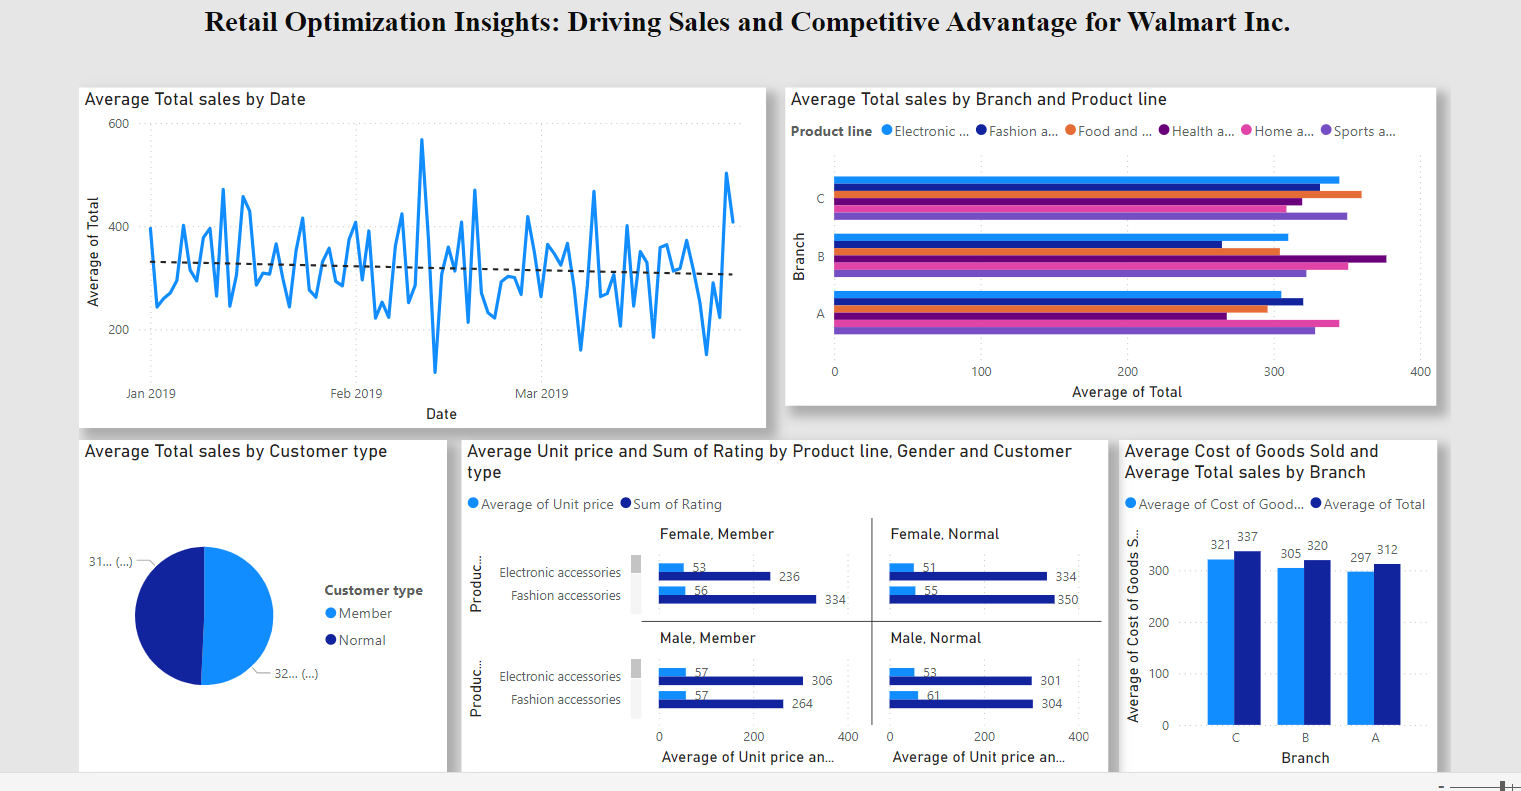

The page's visual inventory and layout, read from the dashboard file:
{"tool":"powerbi","page":{"name":"Page 1","canvas":[1280,720],"ordinal":0},"visuals":[{"type":"lineChart","title":"Average Total sales by Date","fields":{"Y":["Avg(Table.Total)"],"Category":["Table.Date"]},"box":[0,81.8,641.1,317.7],"z":0},{"type":"clusteredColumnChart","title":"Average Cost of Goods Sold and Average Total sales by Branch","fields":{"Y":["Avg(Table.Cost of Goods Sold)","Avg(Table.Total)"],"Category":["Table.Branch"]},"box":[969.5,410,296.5,309.4],"z":1000},{"type":"clusteredBarChart","title":"Average Total sales by Branch and Product line","fields":{"Category":["Table.Branch"],"Series":["Table.Product line"],"Y":["Avg(Table.Total)"]},"box":[658.8,81.2,607.3,296.5],"z":2000},{"type":"pieChart","title":"Average Total sales by Customer type","fields":{"Category":["Table.Customer type"],"Y":["Avg(Table.Total)"]},"box":[0,410,343,309.4],"z":3000},{"type":"clusteredBarChart","title":"Average Unit price and Sum of Rating by Product line, Gender and Customer type","fields":{"Y":["Avg(Table.Unit price)","Sum(Table.Rating)"],"Category":["Table.Product line"],"Rows":["Table.Gender","Table.Customer type"]},"box":[357.1,410,603.4,309.4],"z":4000},{"type":"textbox","box":[112.2,0,1097.7,64.7],"z":5000}]}

Visuals, with their boxes on the page's 1280x720 design canvas (x1, y1, x2, y2). These are canvas units, not pixel positions in the 1521x791 screenshot, which may show the page scaled, cropped or inside an application window:
"Average Total sales by Date" lineChart: [0,82,641,400]
"Average Cost of Goods Sold and Average Total sales by Branch" clusteredColumnChart: [970,410,1266,719]
"Average Total sales by Branch and Product line" clusteredBarChart: [659,81,1266,378]
"Average Total sales by Customer type" pieChart: [0,410,343,719]
"Average Unit price and Sum of Rating by Product line, Gender and Customer type" clusteredBarChart: [357,410,960,719]
textbox: [112,0,1210,65]
